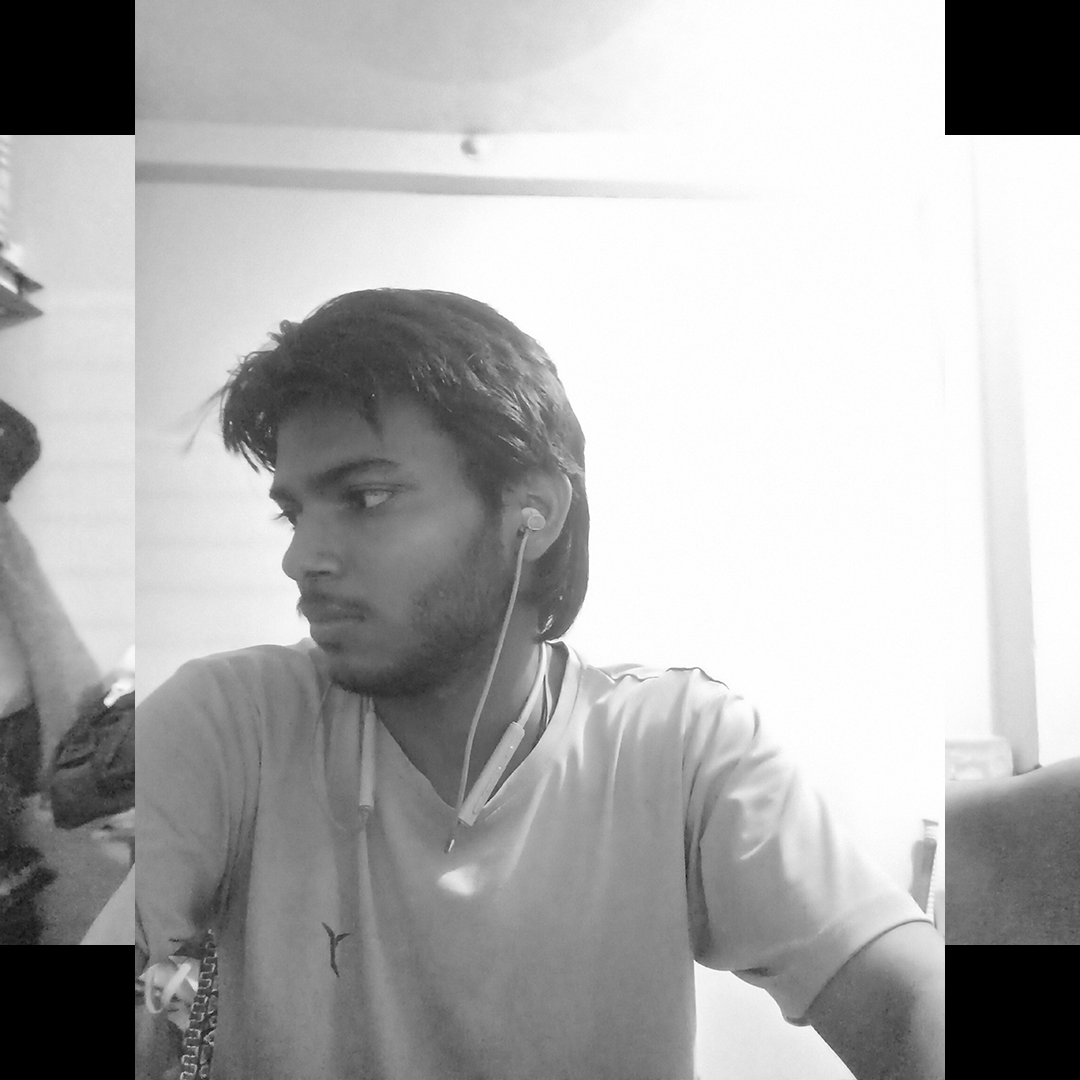distracted: (189, 223, 660, 931)
